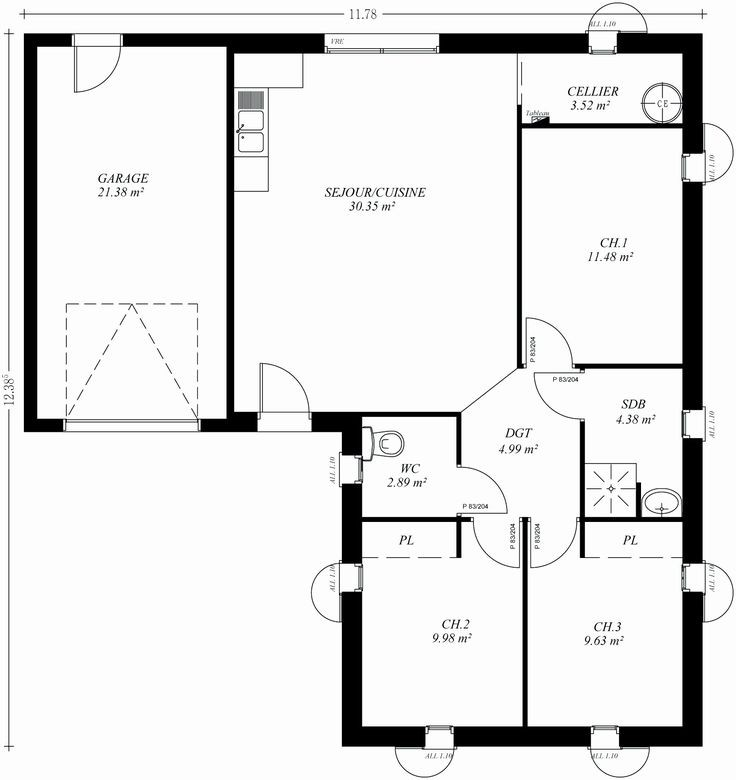door: (459, 500, 588, 587), (243, 339, 319, 442), (512, 296, 595, 384), (67, 21, 138, 110), (444, 446, 513, 522)
room: (223, 36, 529, 418), (21, 30, 240, 437), (518, 35, 700, 387), (521, 512, 701, 756), (361, 522, 538, 719), (523, 359, 684, 523), (347, 407, 495, 525)
wall: (214, 25, 254, 461), (662, 181, 736, 411), (16, 23, 50, 440), (305, 595, 384, 759), (452, 689, 591, 780), (667, 593, 735, 765), (122, 25, 328, 69), (660, 439, 728, 560), (500, 123, 530, 381), (665, 1, 715, 153), (512, 512, 542, 761), (441, 20, 588, 69), (623, 708, 736, 771), (326, 710, 425, 775), (514, 107, 695, 140), (566, 404, 601, 572), (346, 502, 483, 543), (321, 485, 385, 564), (619, 15, 713, 68), (576, 357, 725, 388), (570, 507, 704, 537), (313, 398, 381, 446), (338, 406, 368, 456)
window: (57, 393, 209, 456), (325, 9, 447, 86), (663, 540, 723, 630), (326, 543, 381, 635), (575, 693, 643, 767), (666, 384, 722, 473), (568, 13, 630, 73), (329, 436, 377, 511), (410, 706, 471, 765), (667, 141, 719, 209)
